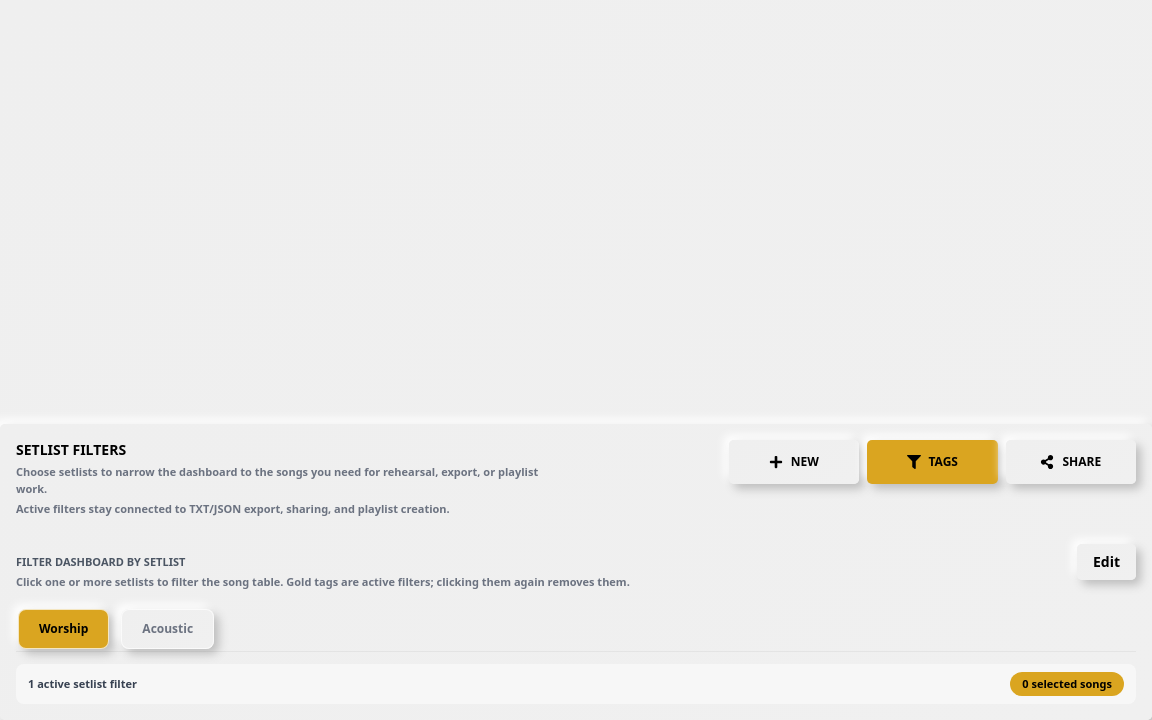
Test: Tags › shows friend suggestions and fills the email input when one is selected
The width and height of the screenshot is (1152, 720).
Click the button "Share". click: x=1071, y=462
box: [1006, 440, 1136, 484]
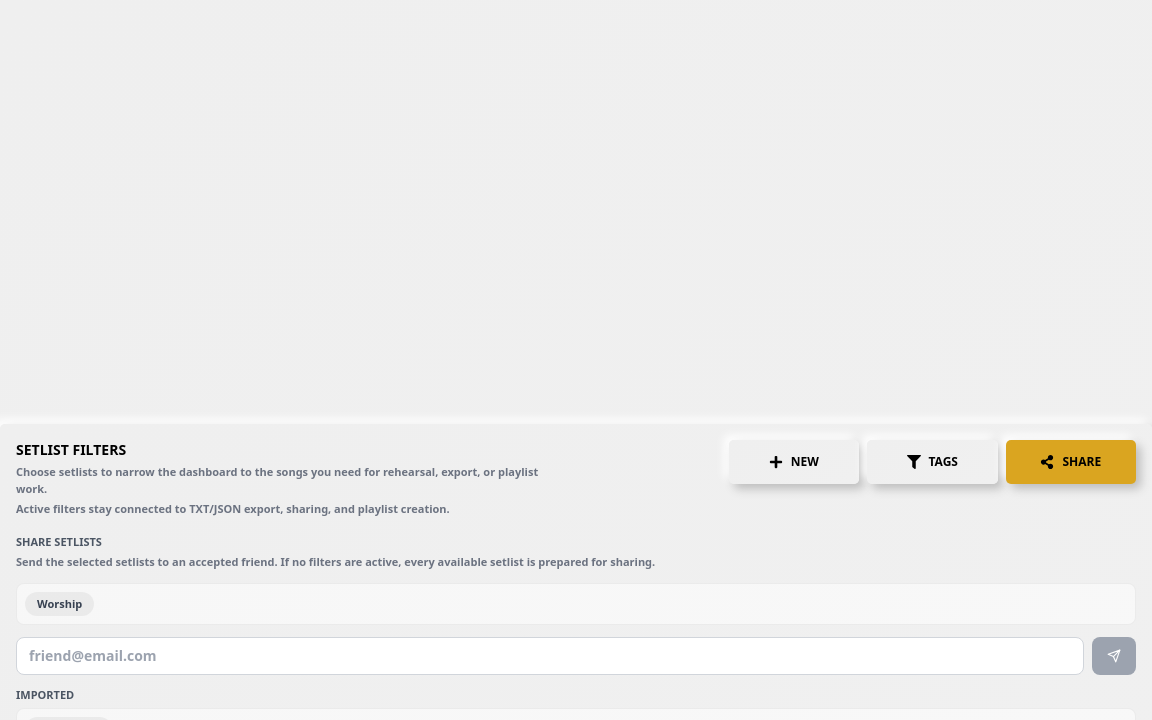
Type "friend" into the field with placeholder "friend@email.com". click: x=550, y=656
box: [16, 637, 1084, 675]
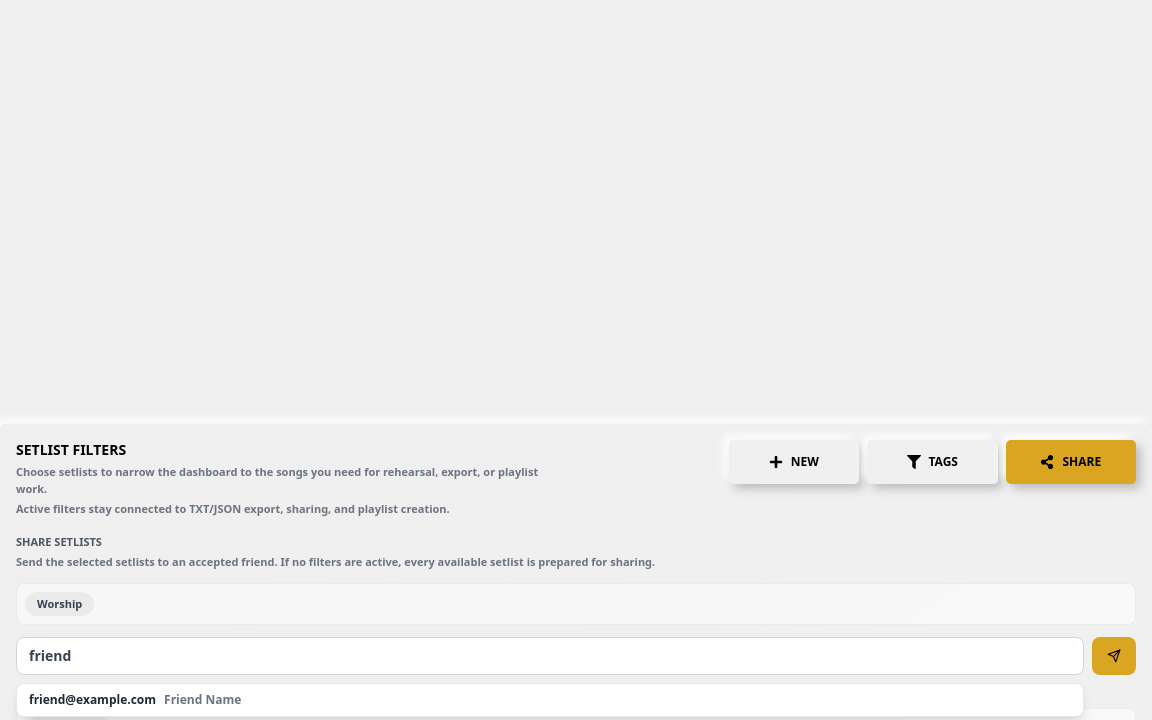
Click the button "friend@example.com". click: x=93, y=700
box: [17, 684, 1083, 716]
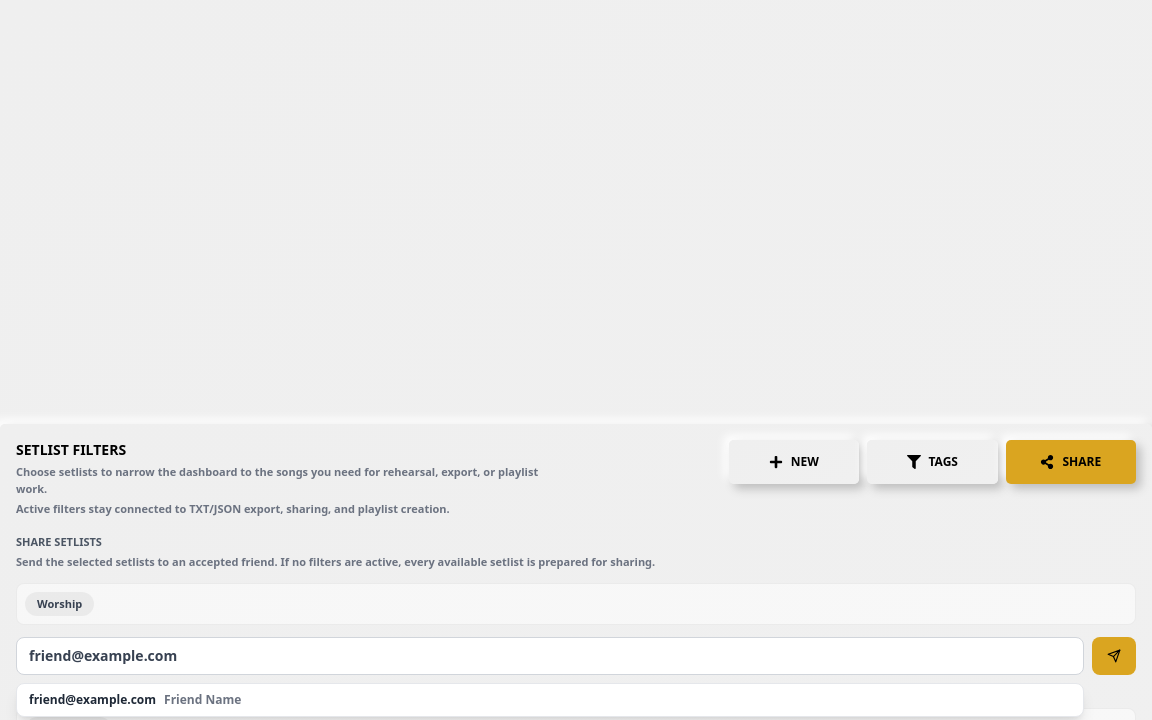
expect the field with placeholder "friend@email.com" holds "friend@example.com": met, box [16, 637, 1084, 675]
